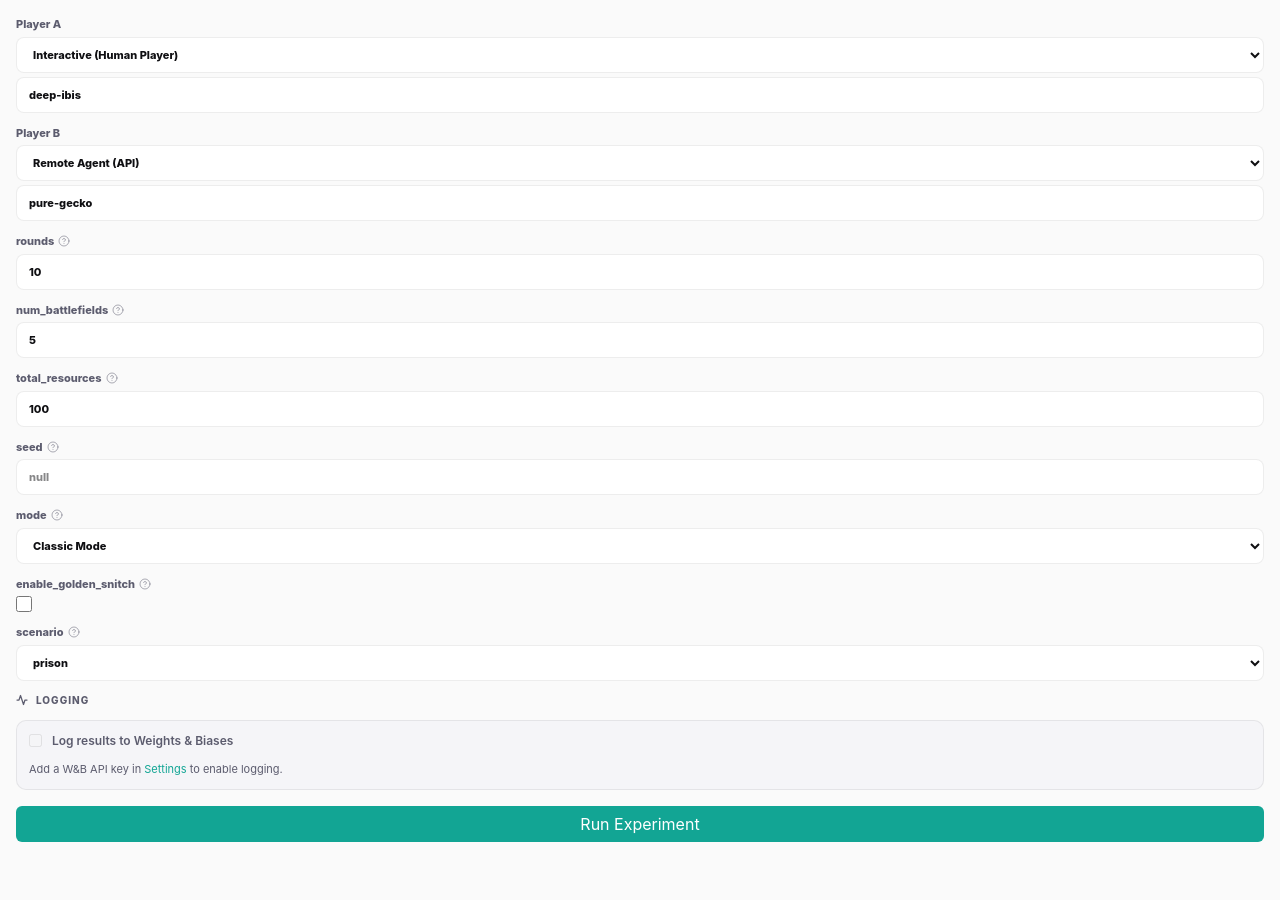
it: AutoConfigForm — submission › shows error message on submission failure
Click the button "Run Experiment": (640, 824) [16,806,1264,842]
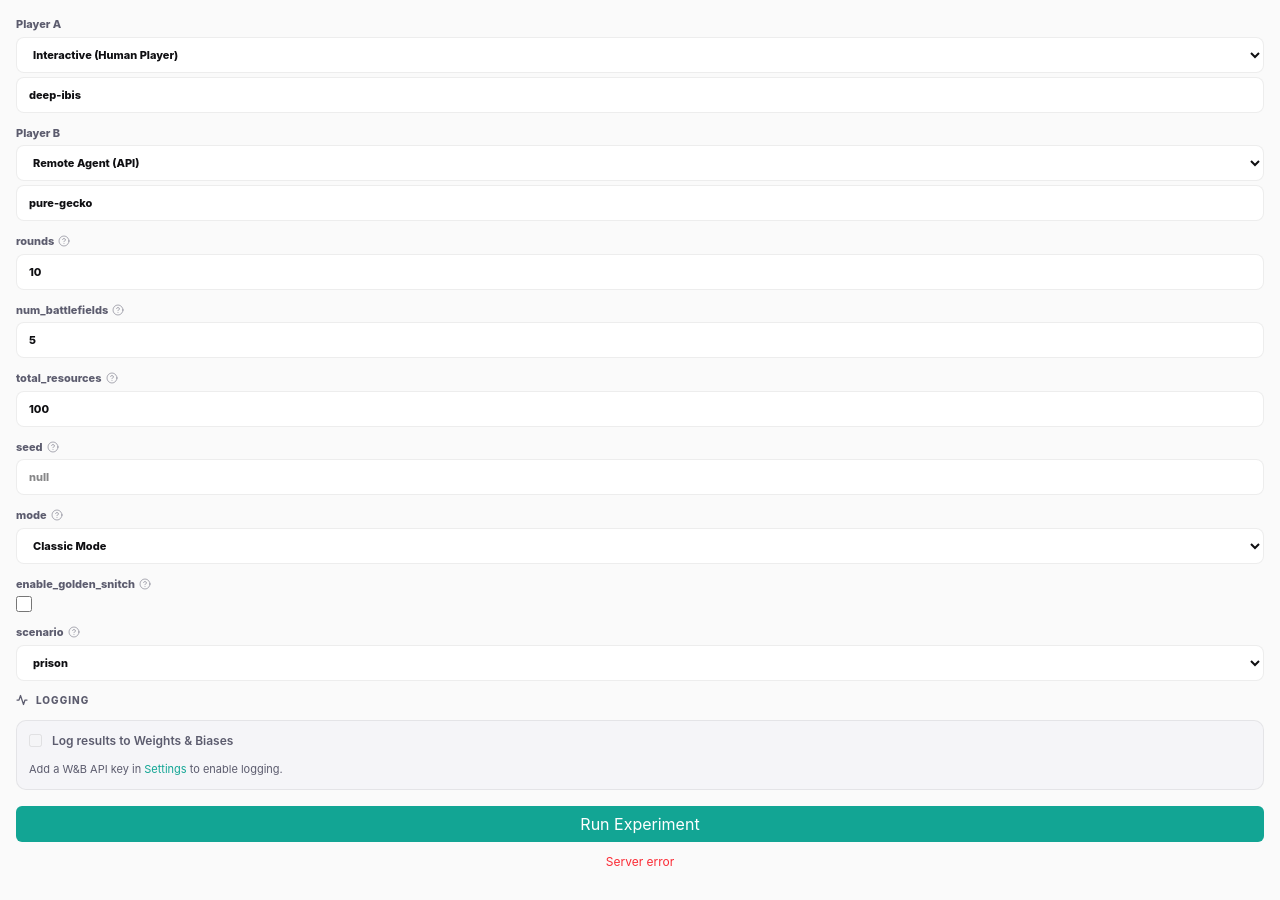
Result: the text "Server error" is shown at [606,854,674,869]
